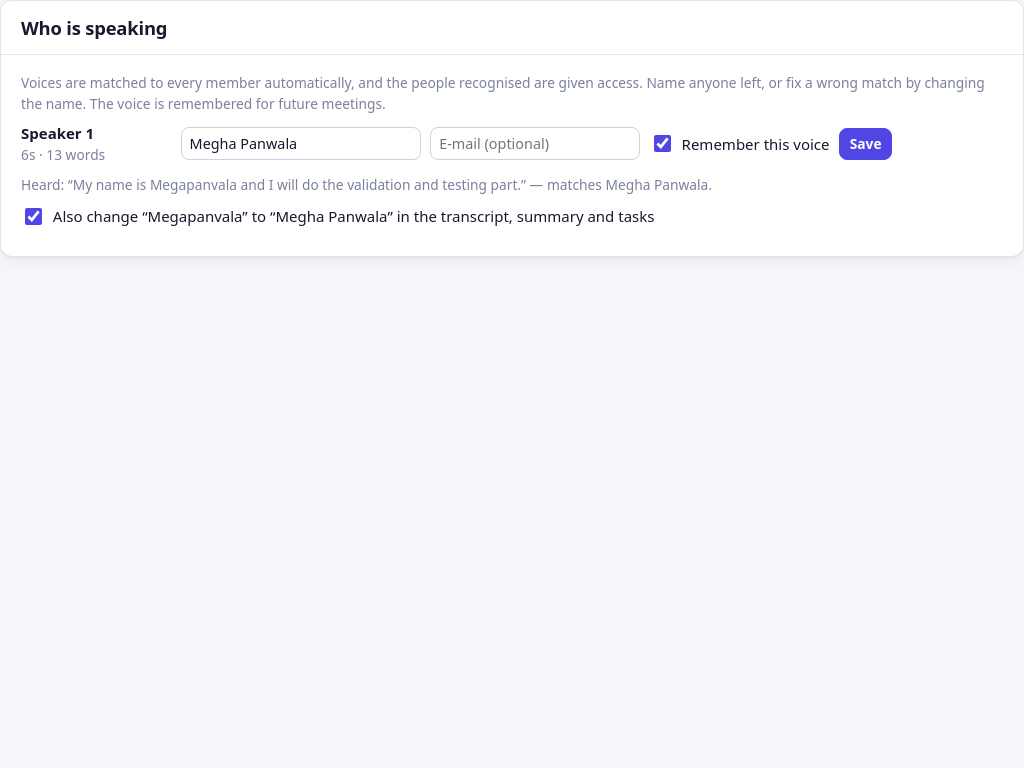
a name said in the recording is filled in › saves the corrected name and fixes the spelling everywhere in one go
Expected: the field named "Name for Speaker 1" is shown, [181, 127, 421, 160]
Step 1. Click the button "Save" → {"x": 866, "y": 144}, box [839, 128, 892, 160]
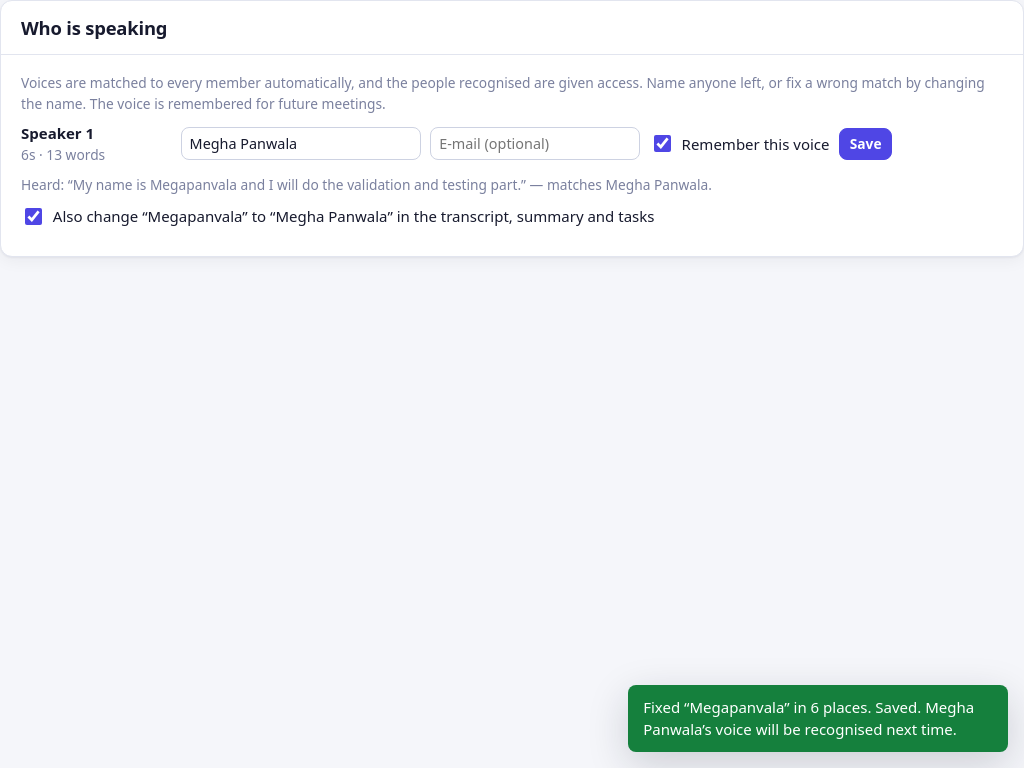
Now the text "Fixed “Megapanvala” in 6 places" is shown, box [643, 697, 974, 739]
